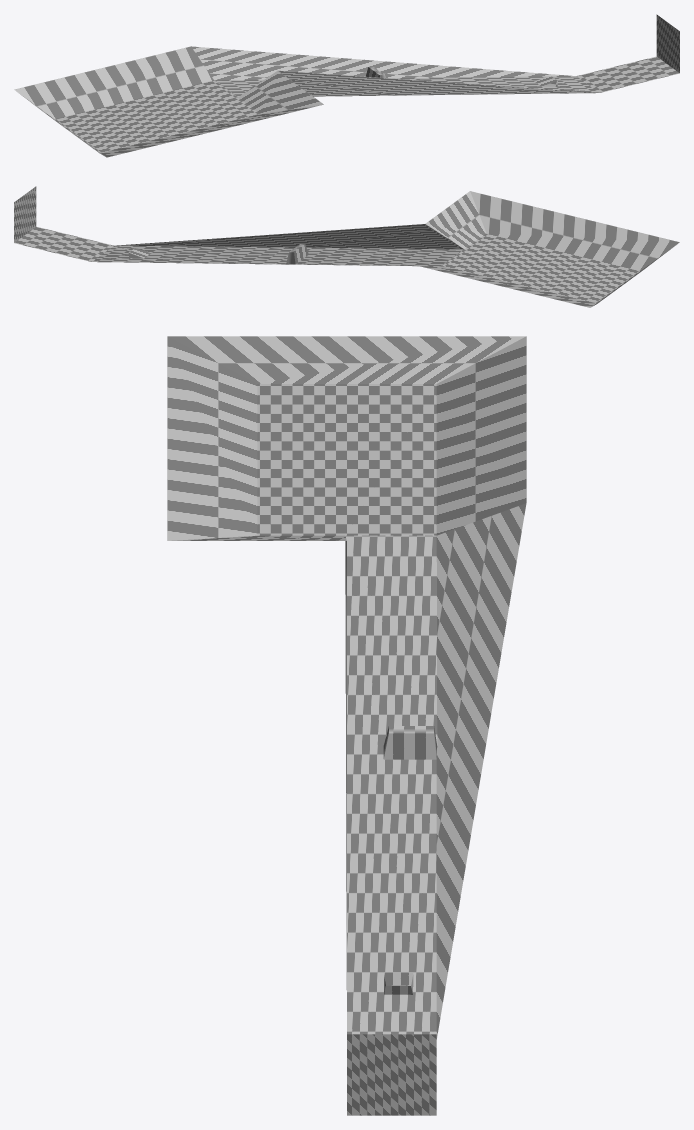
The model's file is terrain.gltf.
The picture shows the model from 3 angles, top to bottom: view 1: azimuth 30°, elevation 25°; view 2: azimuth 150°, elevation 25°; view 3: azimuth 270°, elevation 25°; orthographic projection. The views are drawn at different scales.
Parts seen in each view (by area): view 1: Plane; view 2: Plane; view 3: Plane.
Boxes of the visible parts, box(x1,y1,x2,y2) form: Plane: box(14, 14, 679, 157); Plane: box(14, 186, 679, 307); Plane: box(167, 336, 526, 1115).
Size of the model in its own units: 385 by 60 by 100.
1 material, 1 textured.
